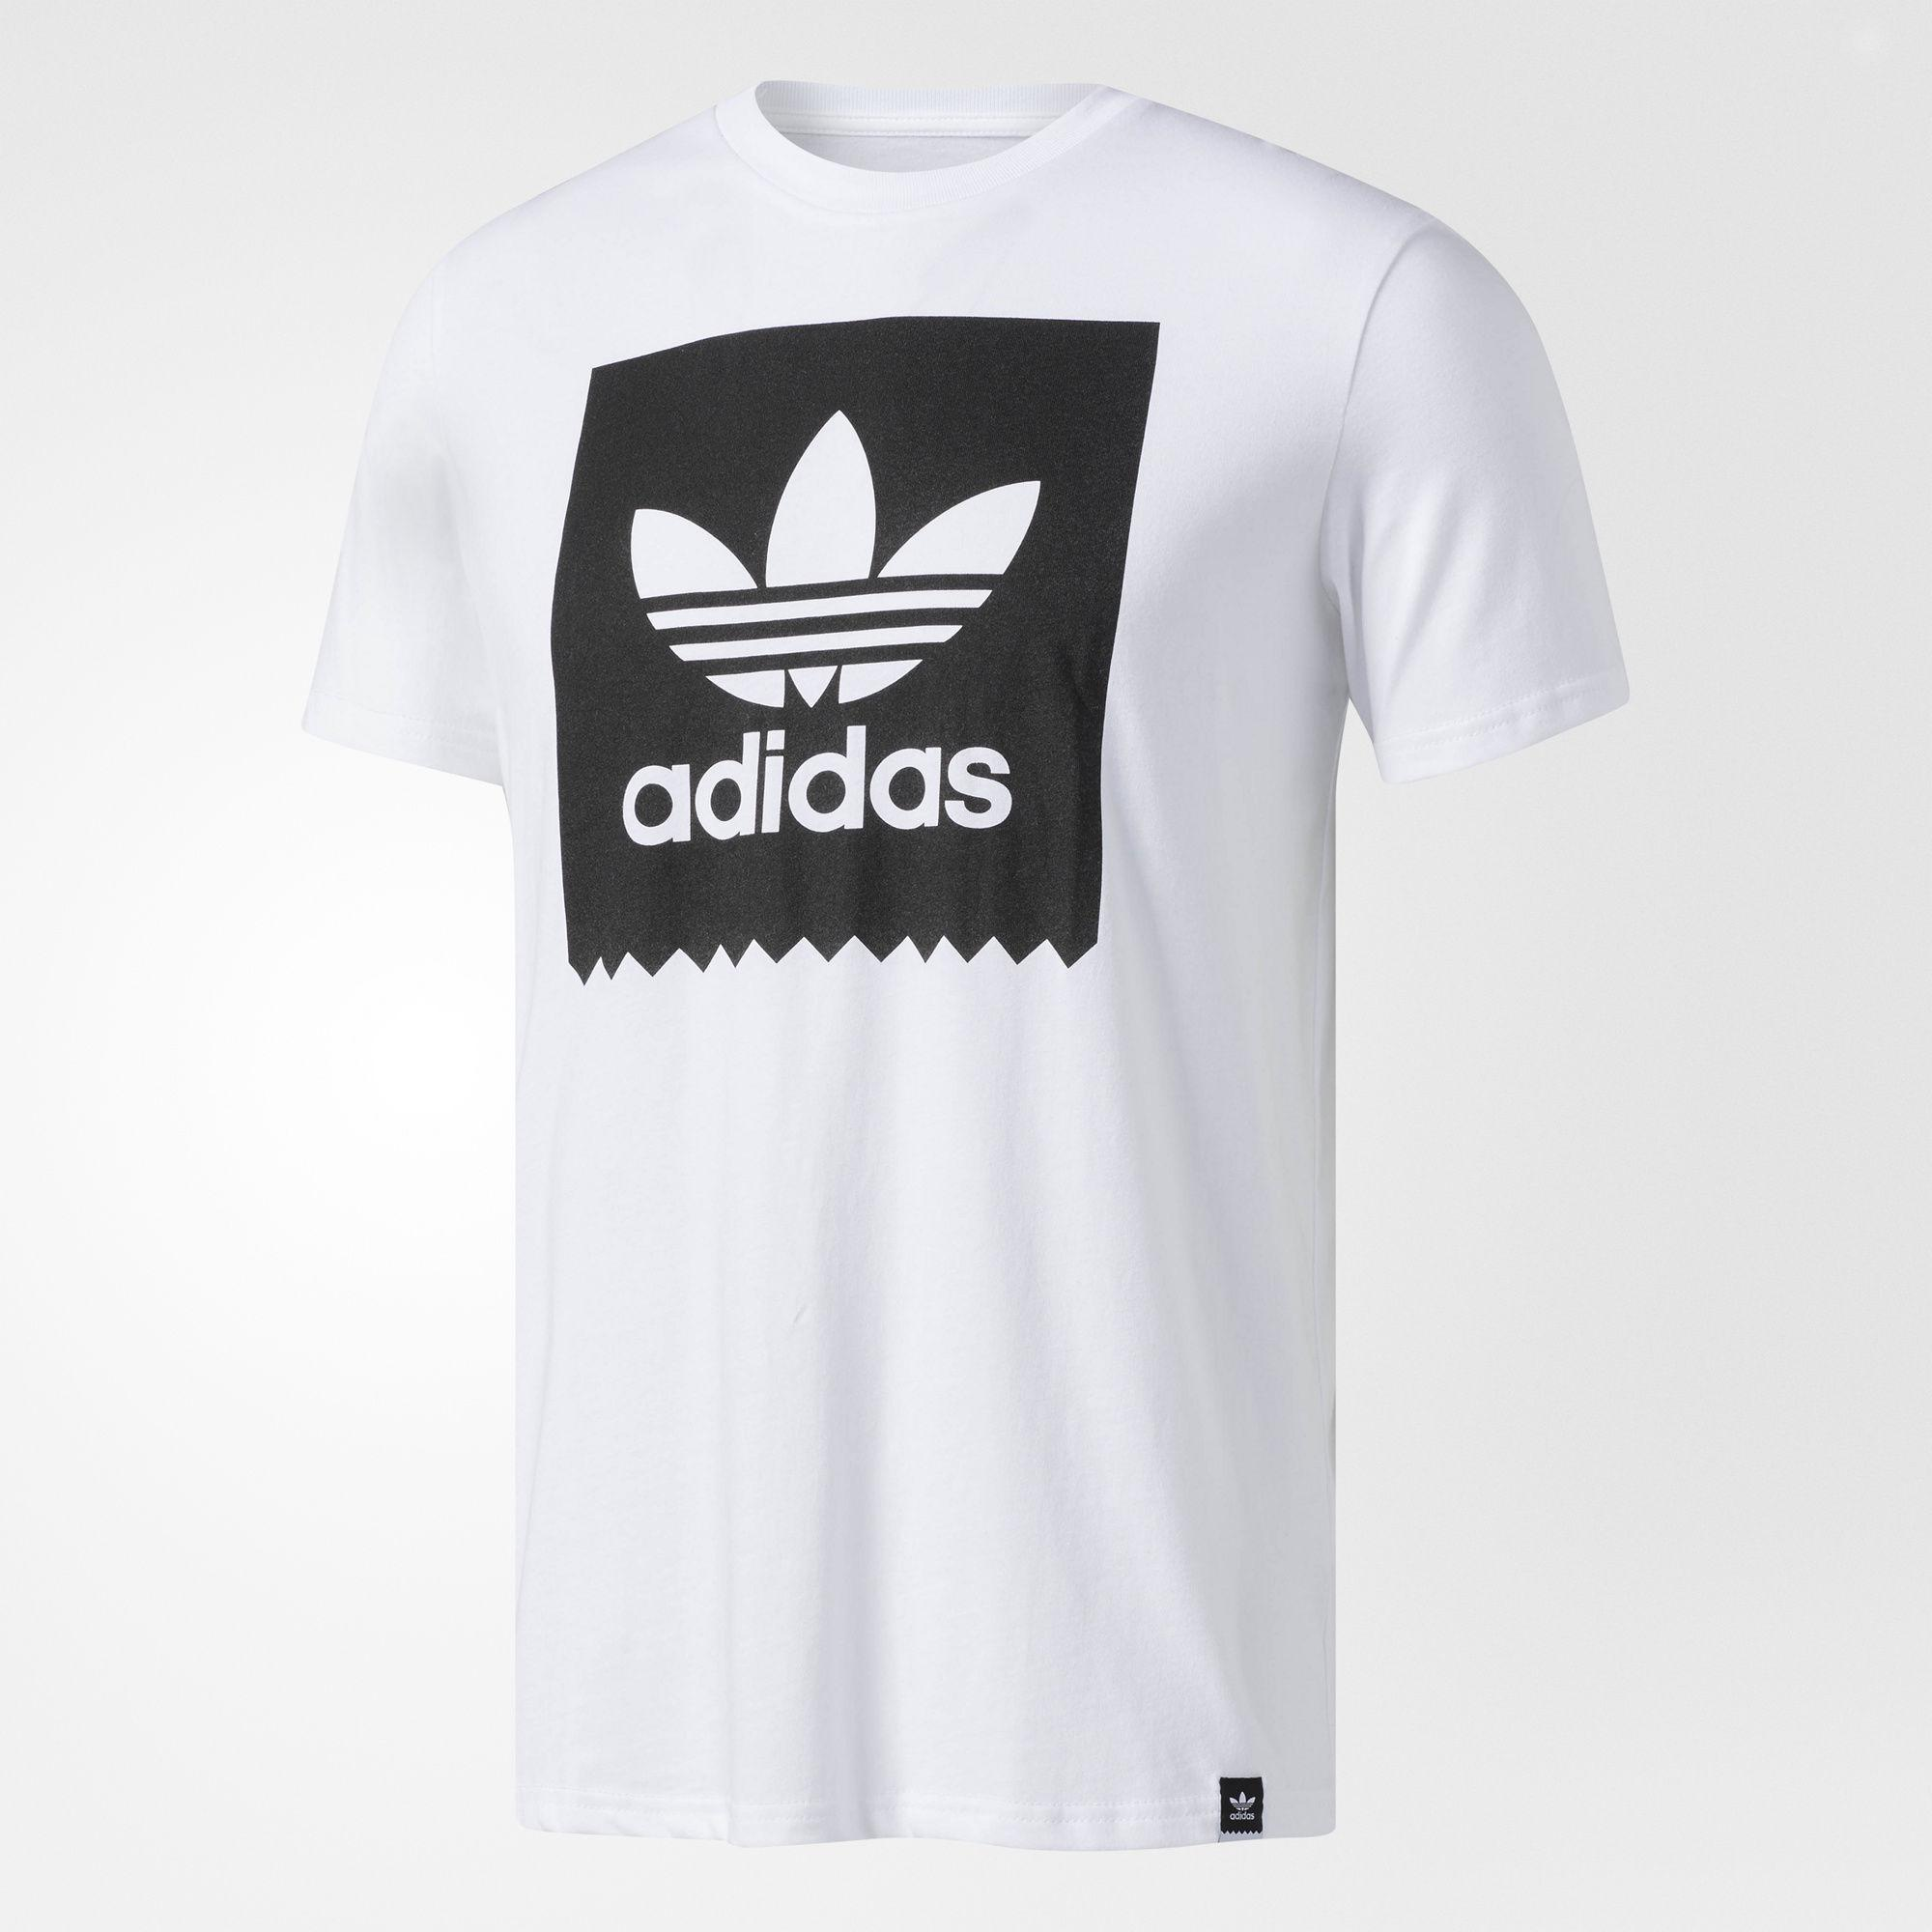teeshirt: (274, 58, 1755, 1905)
